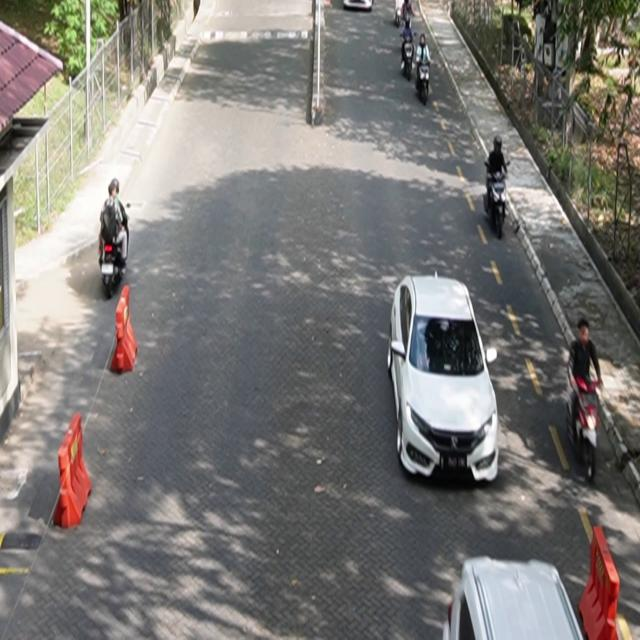car: (388, 272, 500, 484)
